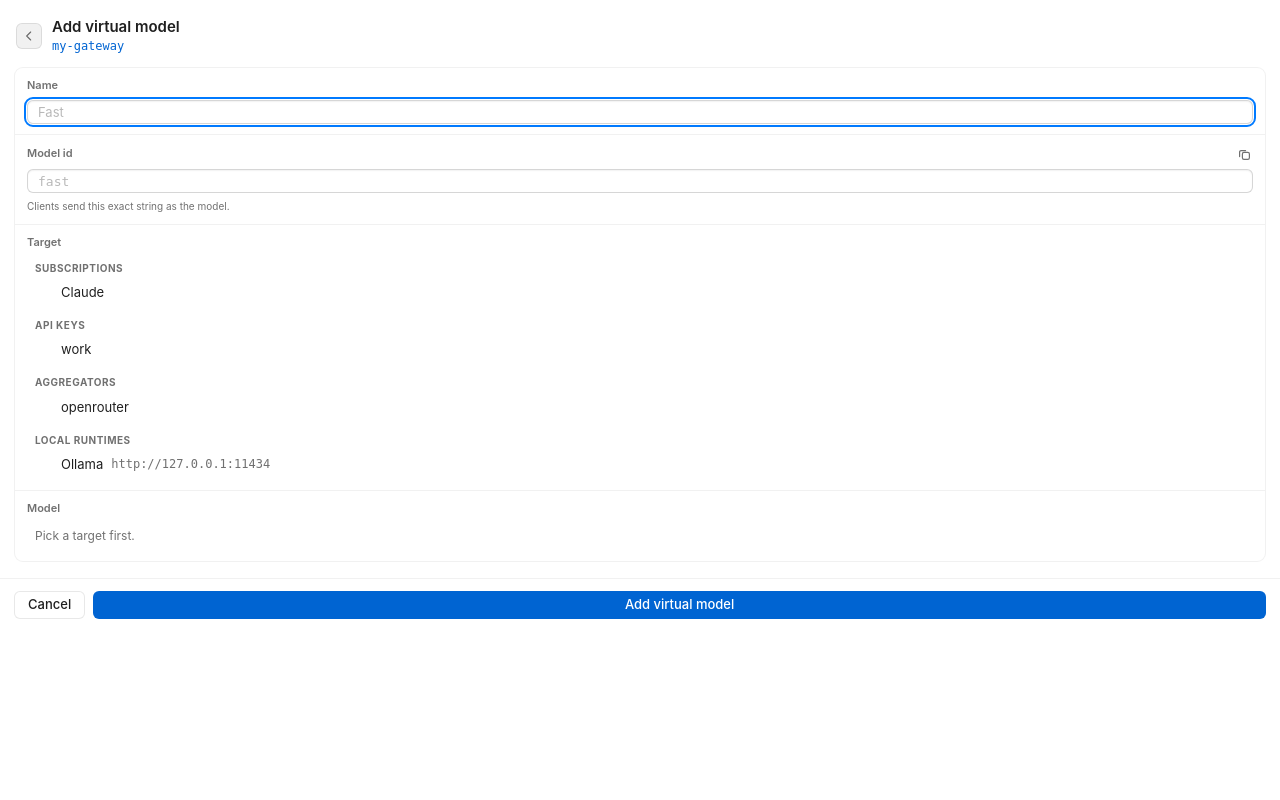
Test: a target whose model list nothing could read refuses where the models would stand
Click the button "work" at (76, 349), box [27,334,1253,365]
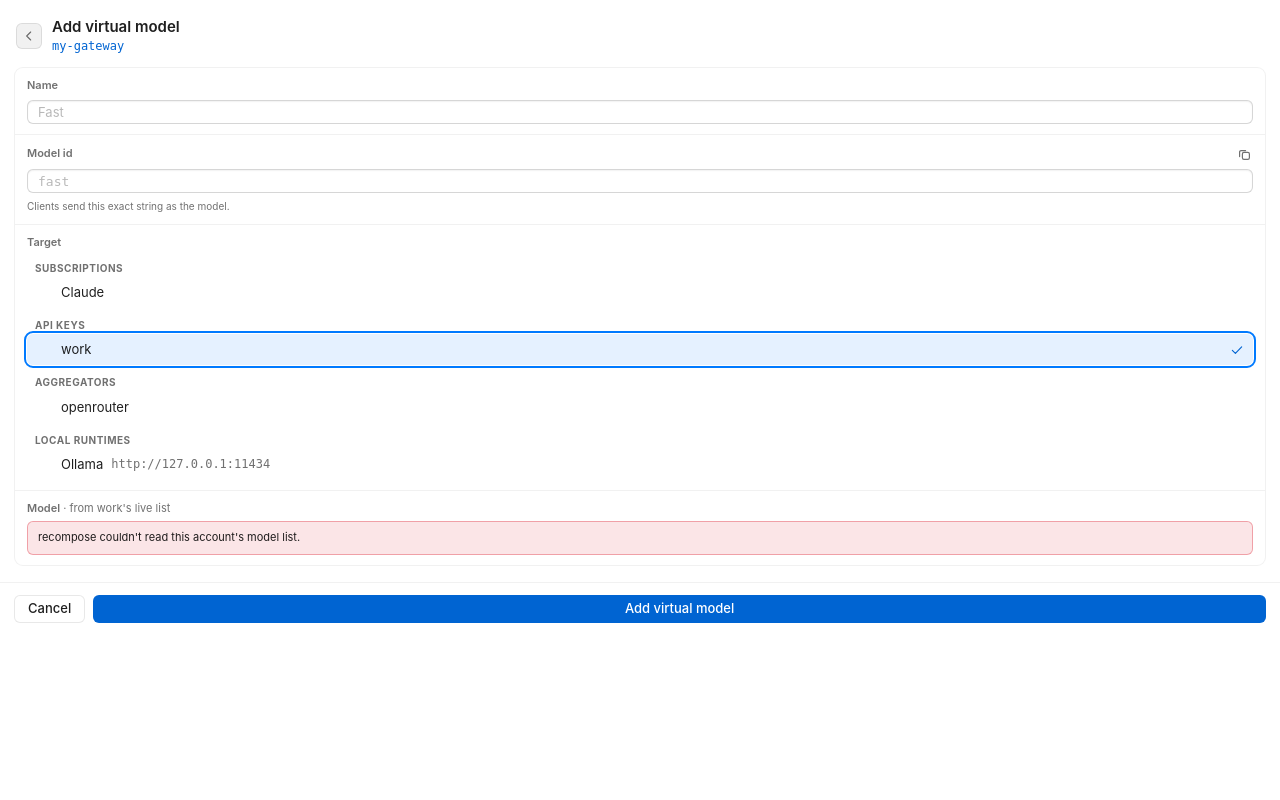
Expected: the message shows "model list", [38,530,300,544]
